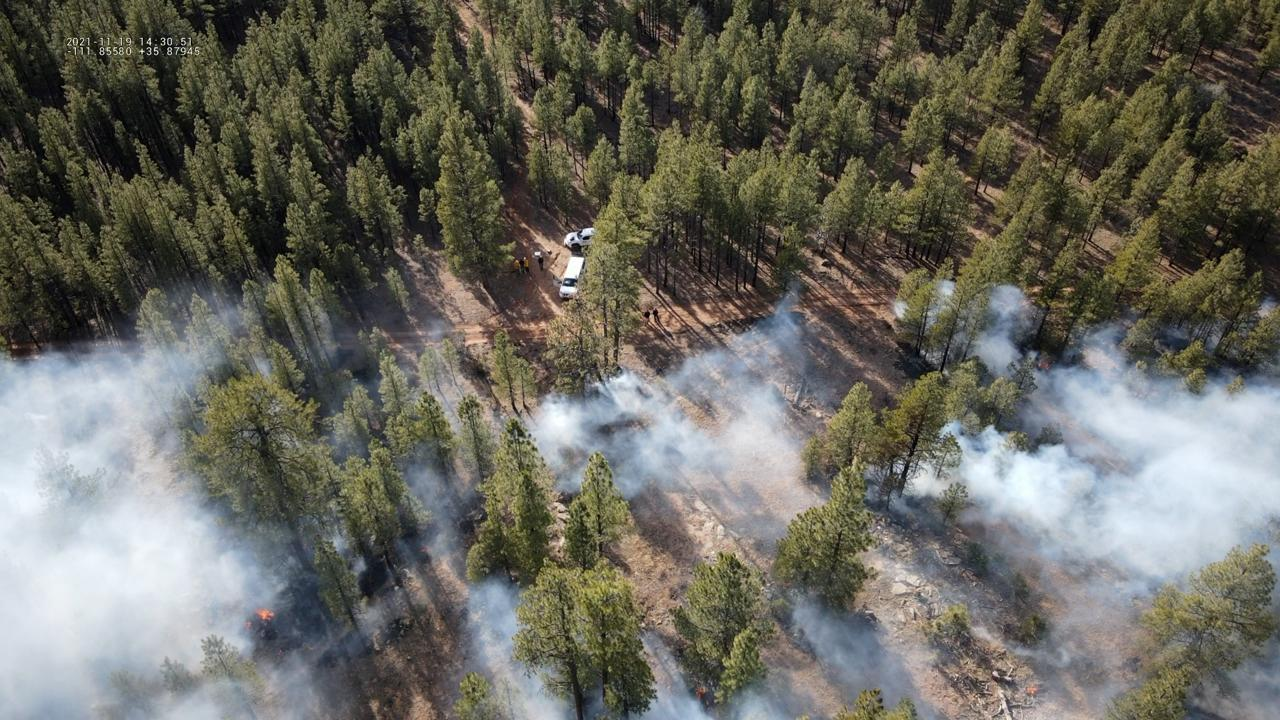fire: (254, 606, 275, 622), (695, 684, 706, 703), (1037, 360, 1051, 370), (1025, 686, 1038, 696), (243, 621, 254, 630)
smoke: (0, 272, 1279, 720)
